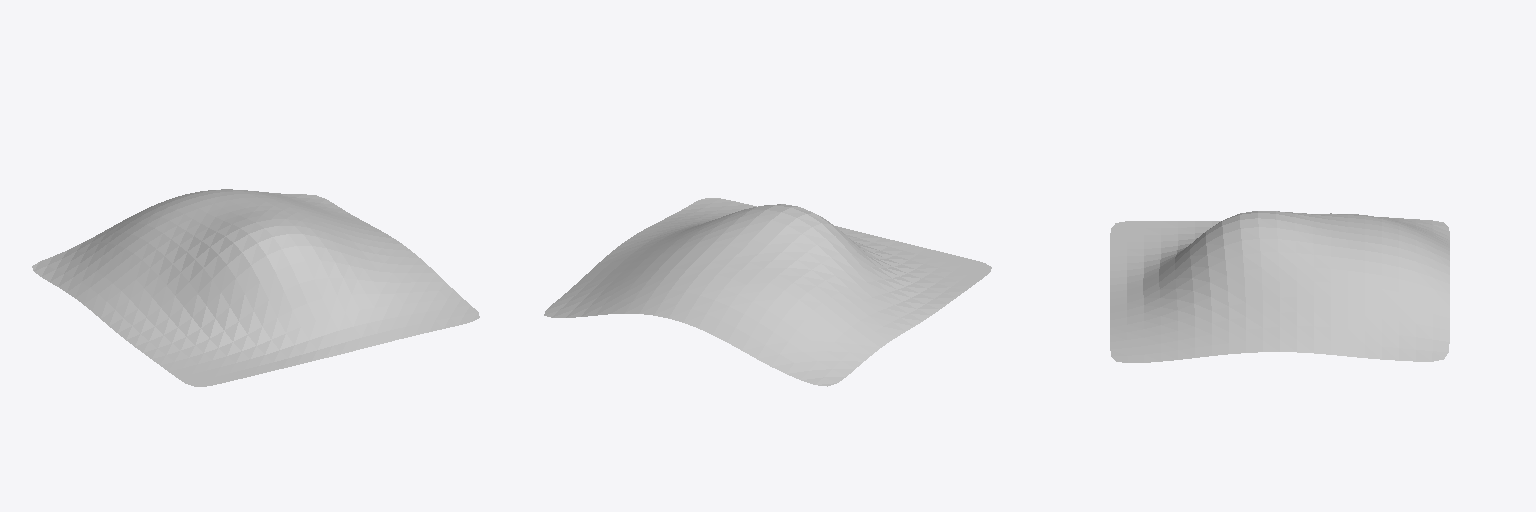
The model's file is nuvemb.obj.
3 views of the same model, side by side, from view 1: azimuth 30°, elevation 25°; view 2: azimuth 150°, elevation 25°; view 3: azimuth 270°, elevation 25° (orthographic).
Visible parts, largest first — view 1: Plane.001_Plane.068; view 2: Plane.001_Plane.068; view 3: Plane.001_Plane.068.
Part boxes in pixels (x1,y1,x2,y2): Plane.001_Plane.068: (32,189,479,386); Plane.001_Plane.068: (544,198,991,386); Plane.001_Plane.068: (1110,211,1449,362).
Bounding box in the file's own units: 2 × 0.4737 × 2.